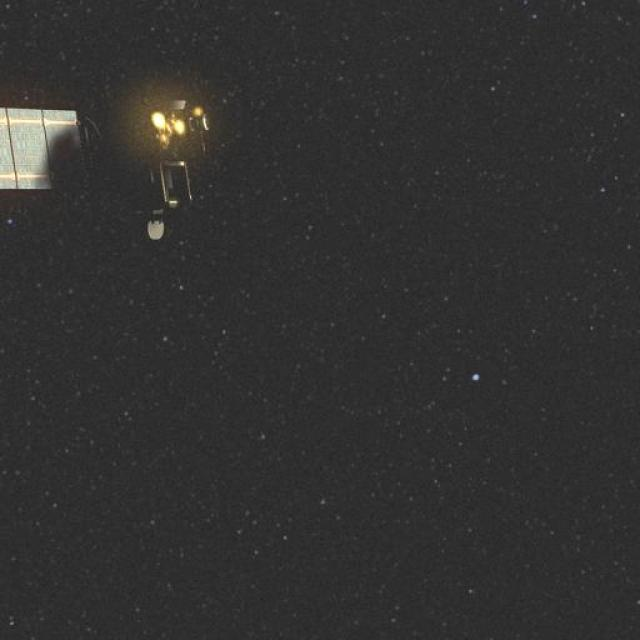earth_observation_sat_1: (0, 98, 238, 230)
